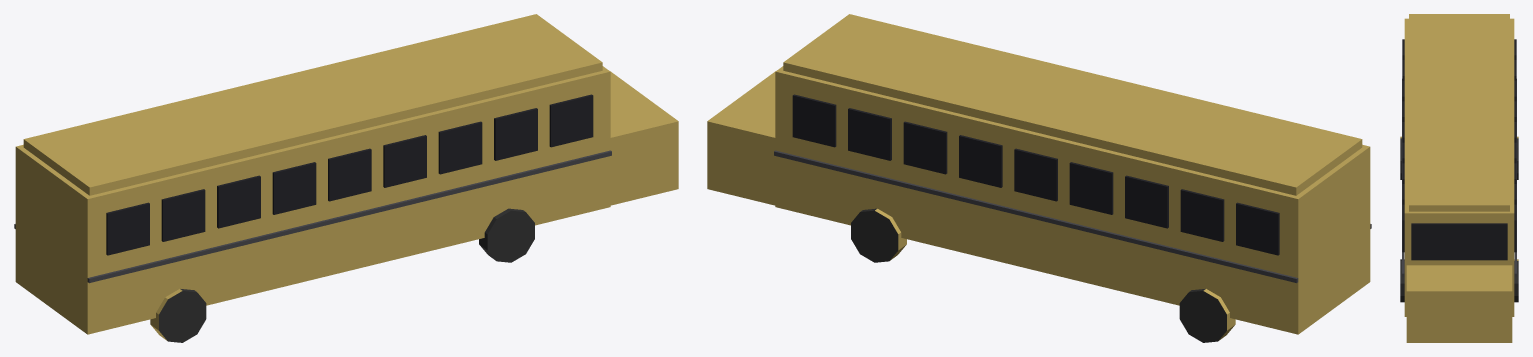
File: v2_bus.glb
3 renders of one model, left to right at view 1: azimuth 30°, elevation 25°; view 2: azimuth 150°, elevation 25°; view 3: azimuth 270°, elevation 25°, orthographic. The views are drawn at different scales.
Parts seen in each view (by area): view 1: v2_bus; view 2: v2_bus; view 3: v2_bus.
Boxes of the visible parts, bbox=[...] form: v2_bus: bbox=[14, 14, 678, 342]; v2_bus: bbox=[707, 14, 1371, 342]; v2_bus: bbox=[1400, 14, 1518, 342].
Bounding box in the file's own units: 11.9 × 3.31 × 2.7.
